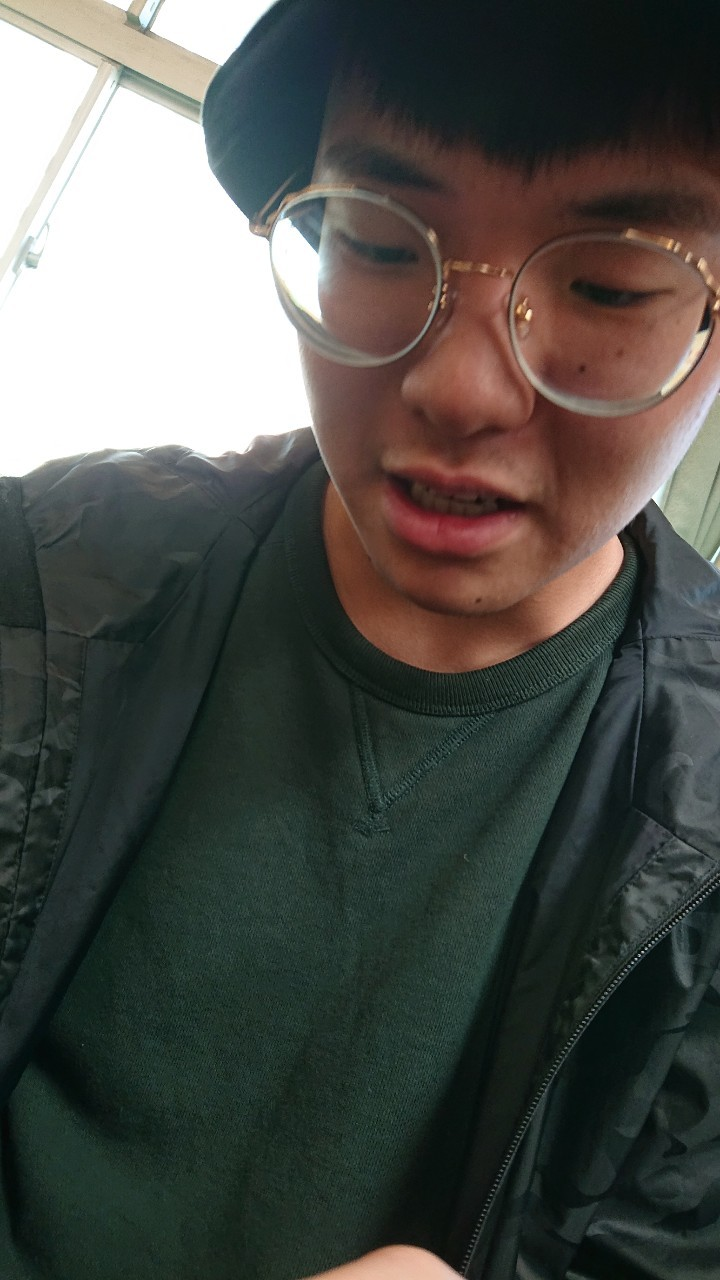people: (1, 1, 703, 702)
